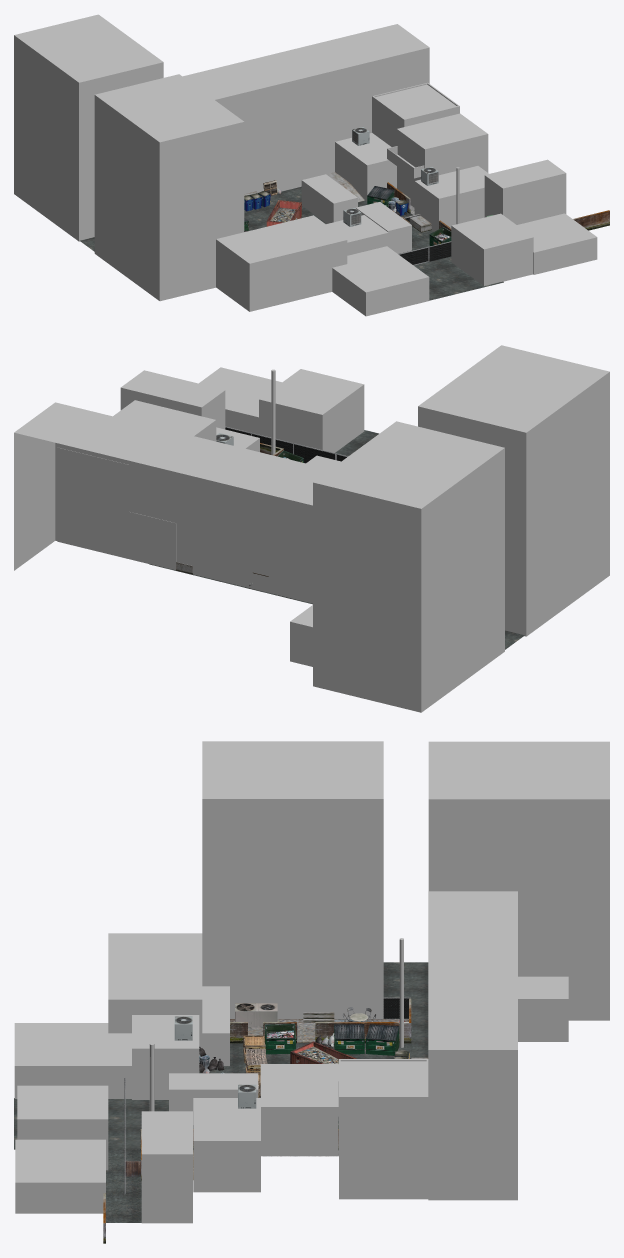
Rendered from level1_5.fbx.
The picture shows the model from 3 angles, top to bottom: view 1: azimuth 30°, elevation 25°; view 2: azimuth 150°, elevation 25°; view 3: azimuth 270°, elevation 25°; orthographic projection. The views are drawn at different scales.
Parts seen in each view (by area): view 1: aptBuild1, warehouse1, aptBuild2, derelictWarehouse, building1, smallWarehouse2, apt2, apt3, apt1, building2, smallWarehouse1, truck1 (+7 smaller); view 2: aptBuild2, warehouse1, aptBuild1, building1, apt3, apt1, smallWarehouse1, apt2, shop1, building2; view 3: aptBuild1, aptBuild2, warehouse1, building1, derelictWarehouse, smallWarehouse2, apt2, smallWarehouse1, building2, apt1, apt3, modernApt2 (+13 smaller).
Boxes of the visible parts, x1=… form: aptBuild1: x1=94, y1=74, x2=244, y2=301; warehouse1: x1=183, y1=24, x2=429, y2=193; aptBuild2: x1=14, y1=14, x2=163, y2=241; derelictWarehouse: x1=216, y1=215, x2=347, y2=311; building1: x1=335, y1=82, x2=459, y2=201; smallWarehouse2: x1=332, y1=246, x2=429, y2=316; apt2: x1=397, y1=113, x2=488, y2=207; apt3: x1=451, y1=213, x2=533, y2=285; apt1: x1=484, y1=159, x2=566, y2=224; building2: x1=414, y1=166, x2=488, y2=231; smallWarehouse1: x1=517, y1=213, x2=597, y2=274; truck1: x1=301, y1=174, x2=357, y2=223; aptBuild2: x1=313, y1=421, x2=504, y2=712; warehouse1: x1=14, y1=402, x2=330, y2=603; aptBuild1: x1=418, y1=345, x2=609, y2=636; building1: x1=57, y1=447, x2=176, y2=570; apt3: x1=259, y1=369, x2=364, y2=452; apt1: x1=120, y1=370, x2=225, y2=429; smallWarehouse1: x1=199, y1=367, x2=281, y2=434; apt2: x1=113, y1=400, x2=216, y2=441; shop1: x1=290, y1=605, x2=312, y2=666; building2: x1=216, y1=427, x2=259, y2=451; aptBuild1: x1=202, y1=741, x2=383, y2=1018; aptBuild2: x1=428, y1=741, x2=609, y2=1020; warehouse1: x1=428, y1=891, x2=517, y2=1200; building1: x1=339, y1=1059, x2=428, y2=1199; derelictWarehouse: x1=108, y1=933, x2=229, y2=1065; smallWarehouse2: x1=14, y1=1023, x2=131, y2=1098; apt2: x1=260, y1=1064, x2=338, y2=1155; smallWarehouse1: x1=15, y1=1139, x2=105, y2=1213; building2: x1=193, y1=1098, x2=260, y2=1192; apt1: x1=141, y1=1111, x2=192, y2=1223; apt3: x1=17, y1=1085, x2=108, y2=1170; modernApt2: x1=132, y1=1015, x2=199, y2=1099.
Bounding box in the file's own units: 666 × 284 × 595.
